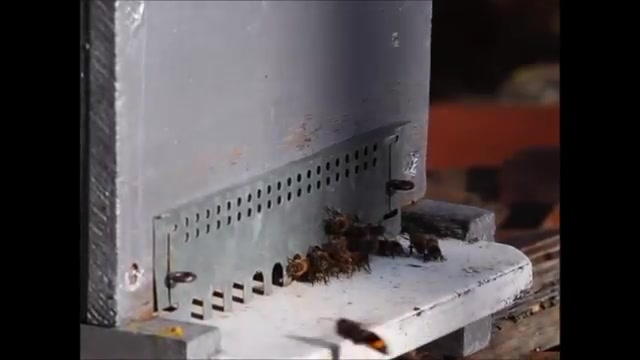bee: (325, 239, 359, 275), (367, 236, 410, 262), (321, 212, 366, 236), (413, 234, 445, 263), (288, 255, 321, 281)
hornet: (328, 312, 395, 357)
